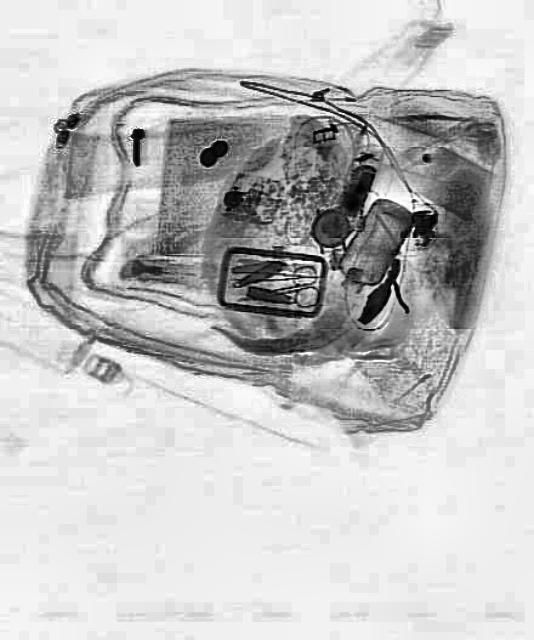Scissors: (254, 262, 320, 316)
